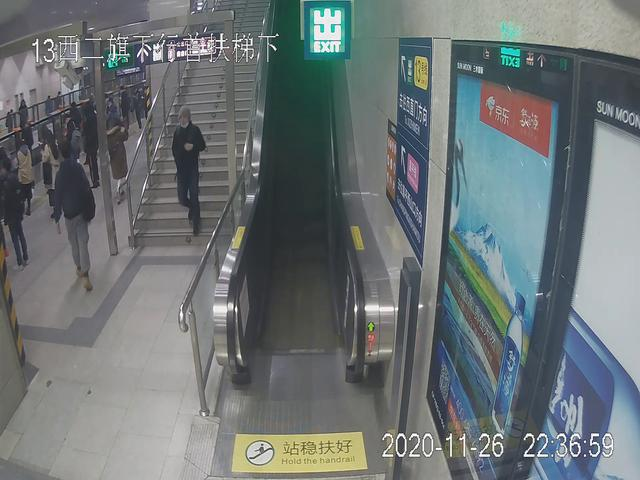person: (52, 139, 98, 296), (172, 105, 204, 238), (33, 124, 63, 208), (108, 117, 132, 208), (16, 138, 33, 218)
